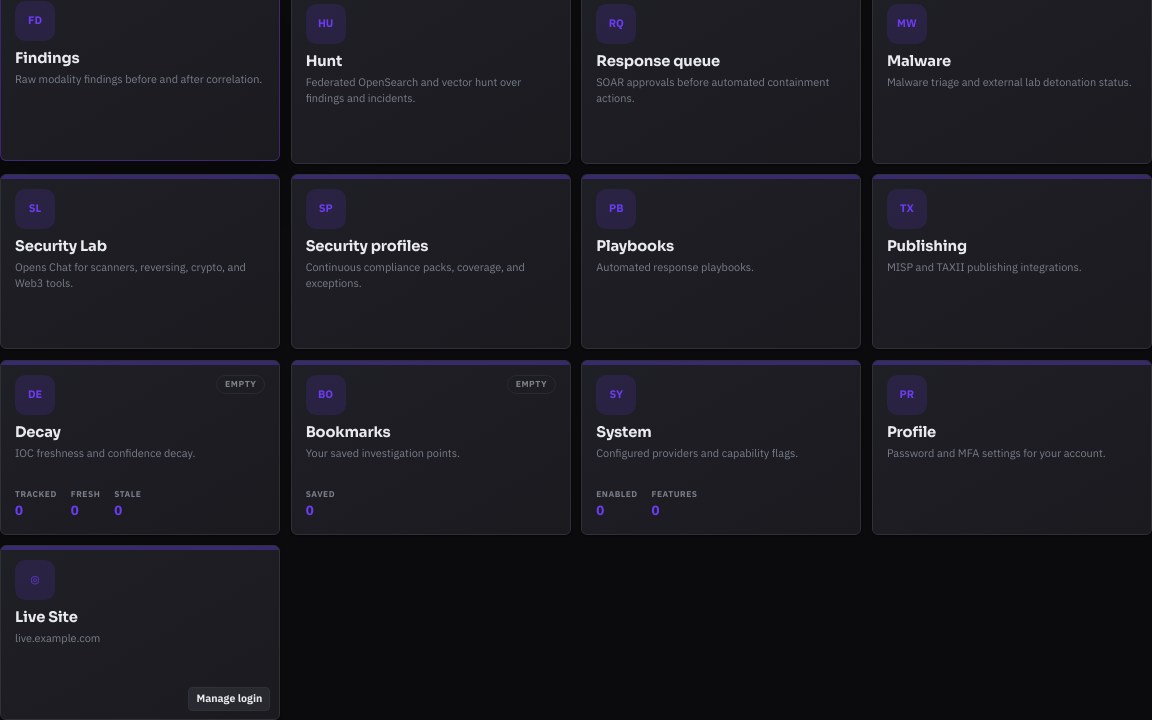
Scenario: GalleryHub manage panel stays live › reflects has_credential after saving a login, without closing and reopening the panel
(page scrolled)
expect the heading "Live Site" is shown: met, box x1=15 y1=608 x2=78 y2=626
Click the button "Manage login".
click(229, 699)  # box x1=188 y1=687 x2=270 y2=711
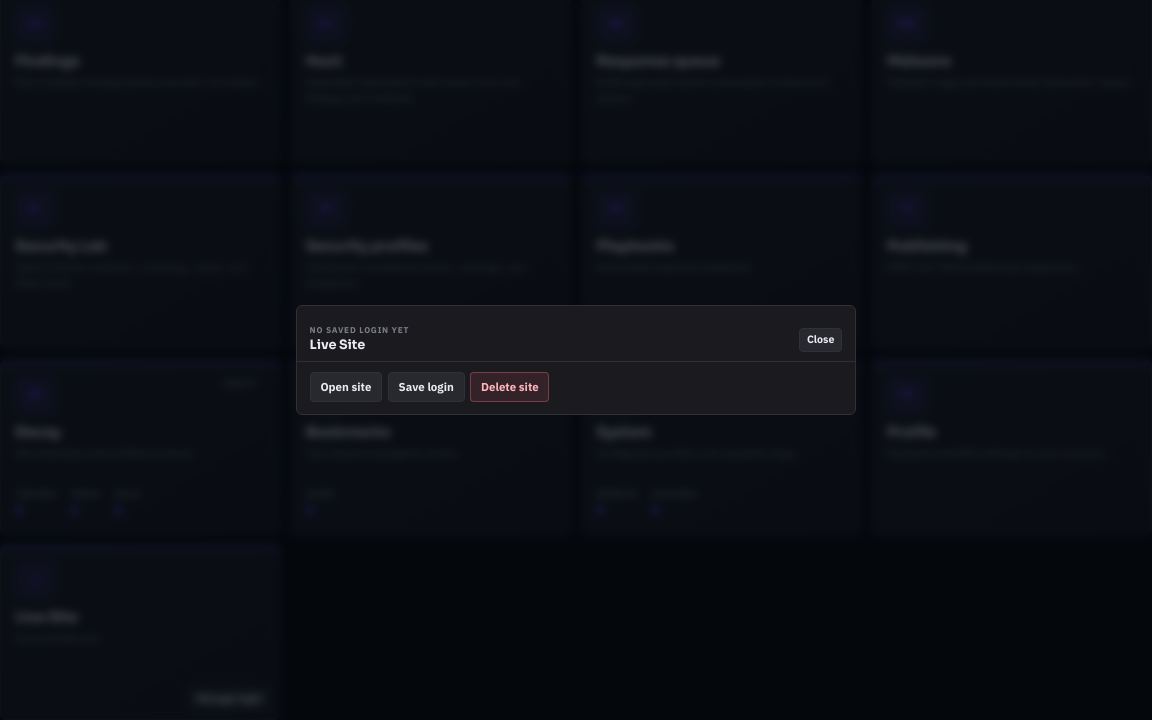
expect the text "No saved login yet" is shown: met, box x1=310 y1=324 x2=409 y2=336
Click the button "Save login".
click(426, 387)  # box x1=388 y1=372 x2=465 y2=402
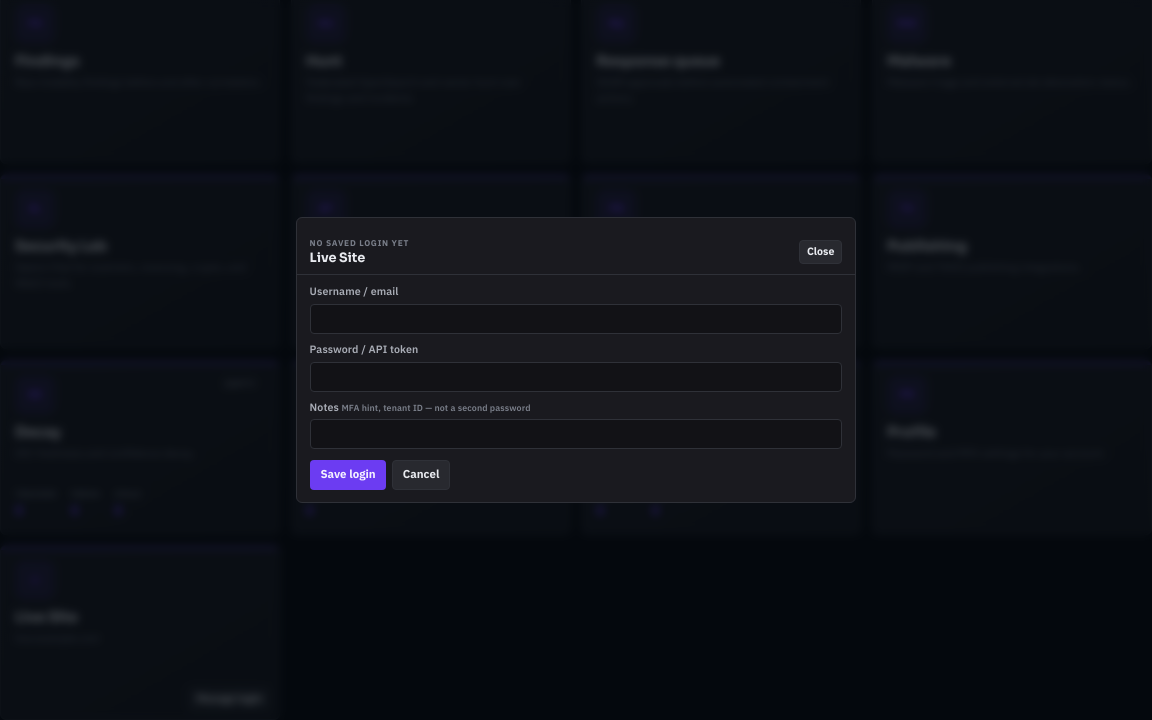
Type "analyst" into the field labelled "Username / email".
click(576, 319); type("analyst")  # box x1=310 y1=304 x2=842 y2=334
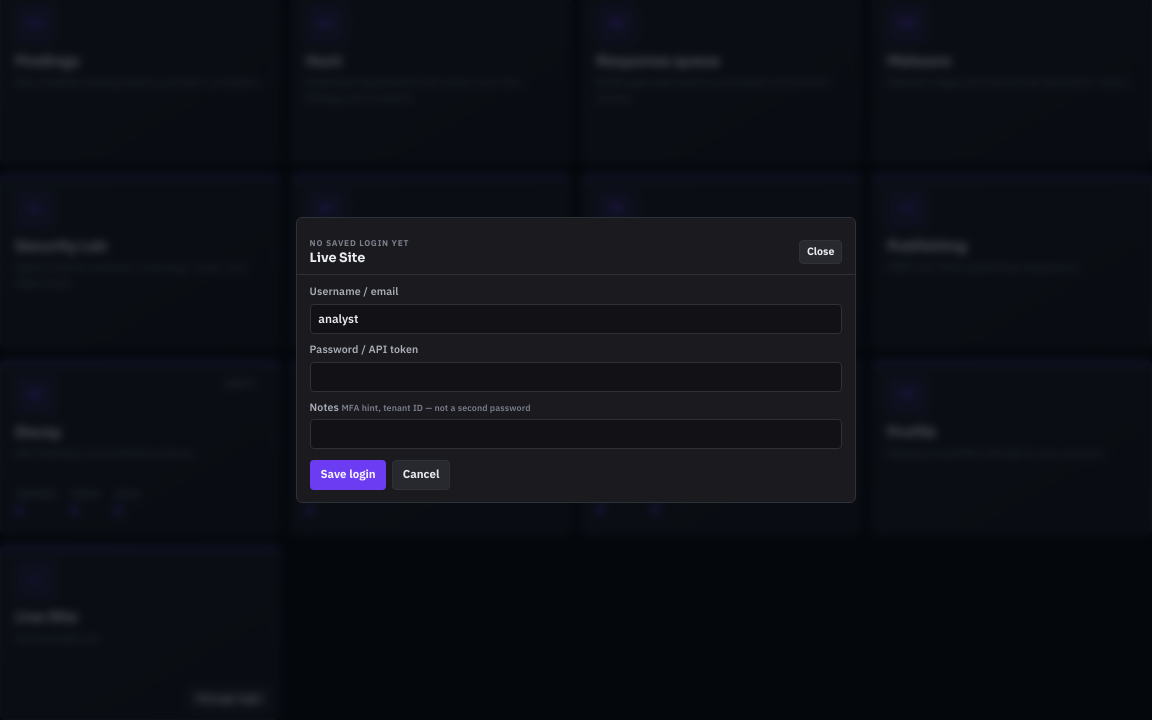
Type "hunter2" into the password field labelled "Password / API token".
click(576, 376); type("hunter2")  # box x1=310 y1=362 x2=842 y2=392
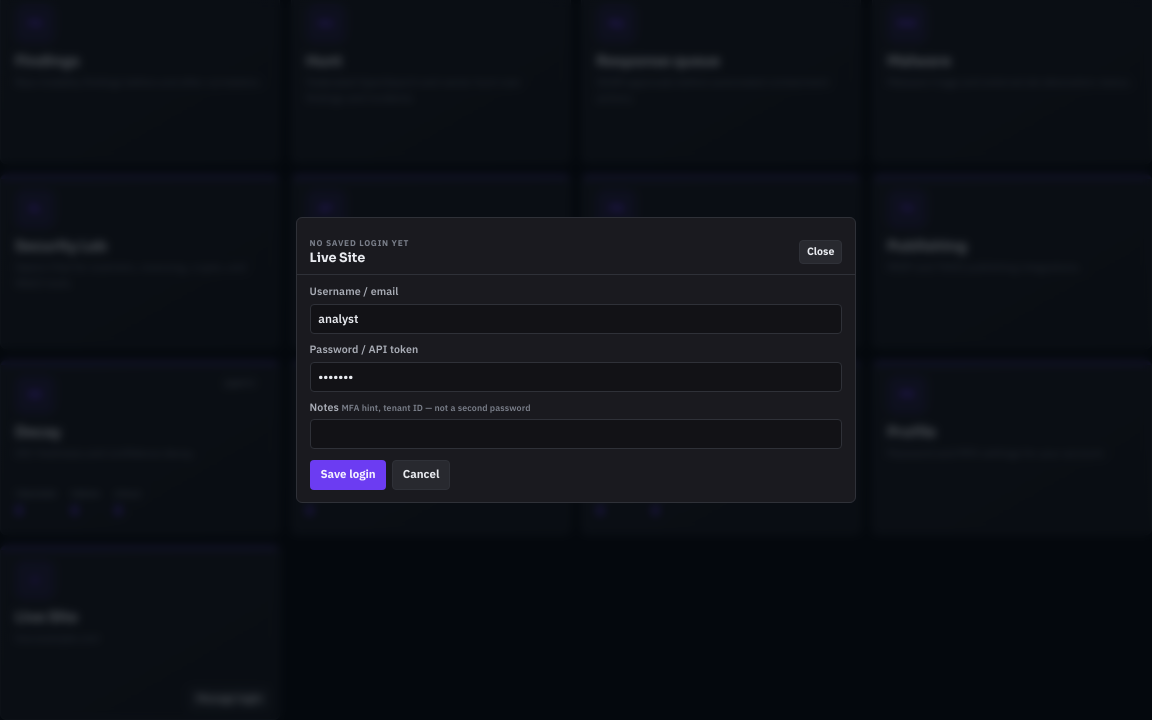
Click the button "Save login".
click(348, 475)  # box x1=310 y1=460 x2=386 y2=490
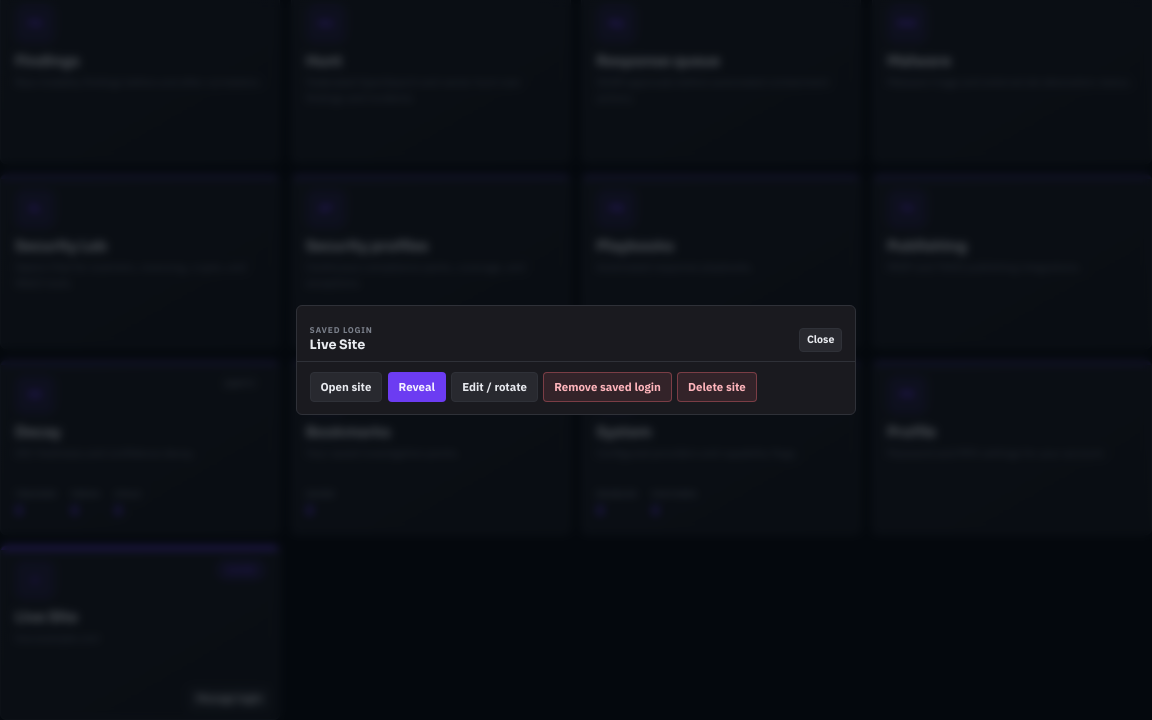
expect the text "Saved login" is shown: met, box x1=310 y1=324 x2=373 y2=336
expect the button "Edit / rotate" is shown: met, box x1=451 y1=372 x2=538 y2=402
expect the button "Reveal" is shown: met, box x1=388 y1=372 x2=446 y2=402
